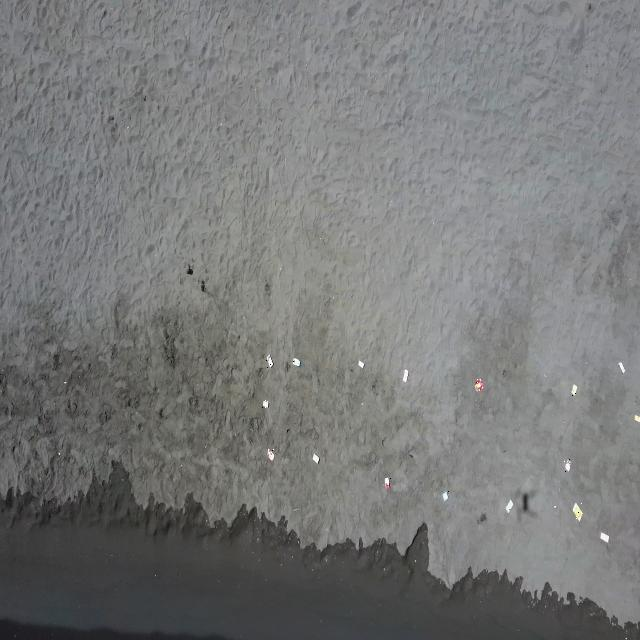retort-pouch: (572, 501, 583, 522), (474, 377, 484, 393), (505, 498, 513, 514), (570, 382, 578, 398), (600, 530, 609, 544), (402, 368, 410, 383), (267, 447, 275, 462), (564, 458, 572, 473), (266, 354, 274, 368), (292, 356, 301, 368), (312, 452, 320, 465), (618, 362, 625, 376), (384, 477, 391, 490), (442, 490, 449, 503), (358, 359, 365, 370), (262, 400, 270, 409), (634, 414, 640, 424)
